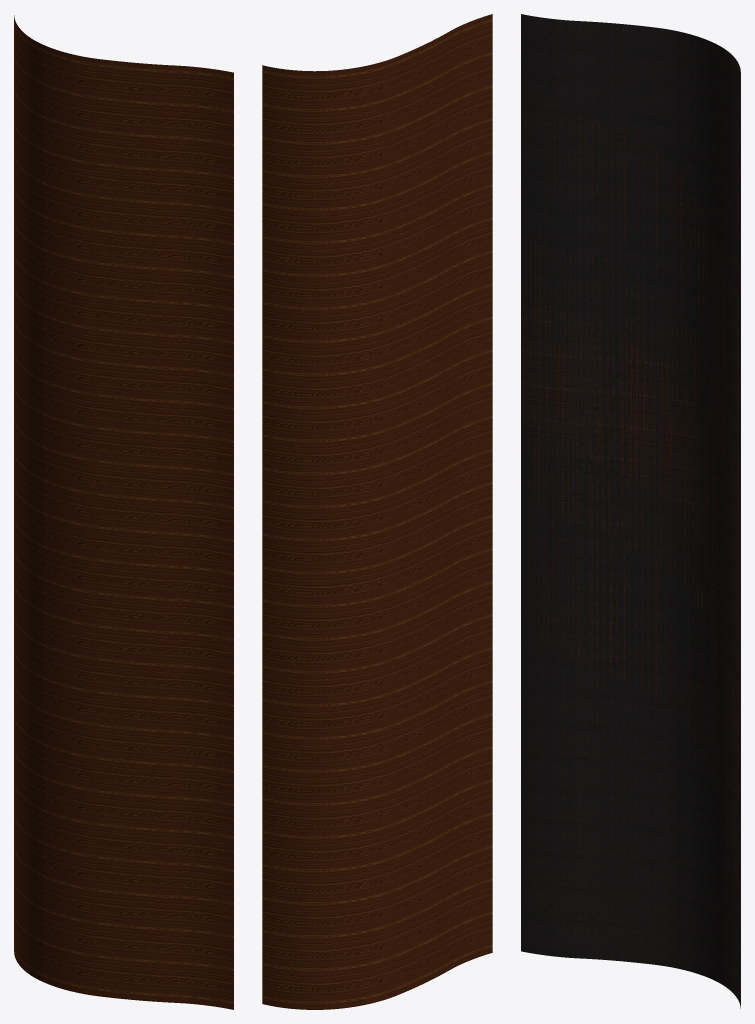
Rendered from original-70.obj.
3 renders of one model, left to right at view 1: azimuth 90°, elevation 25°; view 2: azimuth 150°, elevation 25°; view 3: azimuth 270°, elevation 25°, orthographic.
Visible parts, largest first — view 1: mesh3/mesh3-geometry/material_5/component_0#mesh3-geometry; view 2: mesh3/mesh3-geometry/material_5/component_0#mesh3-geometry; view 3: mesh3/mesh3-geometry/material_5/component_0#mesh3-geometry.
Part boxes in pixels (x1=…): mesh3/mesh3-geometry/material_5/component_0#mesh3-geometry: x1=14, y1=15, x2=233, y2=1009; mesh3/mesh3-geometry/material_5/component_0#mesh3-geometry: x1=262, y1=14, x2=492, y2=1009; mesh3/mesh3-geometry/material_5/component_0#mesh3-geometry: x1=521, y1=14, x2=740, y2=1008.
Bounding box in the file's own units: 0.0822 × 0.6127 × 0.1302.
